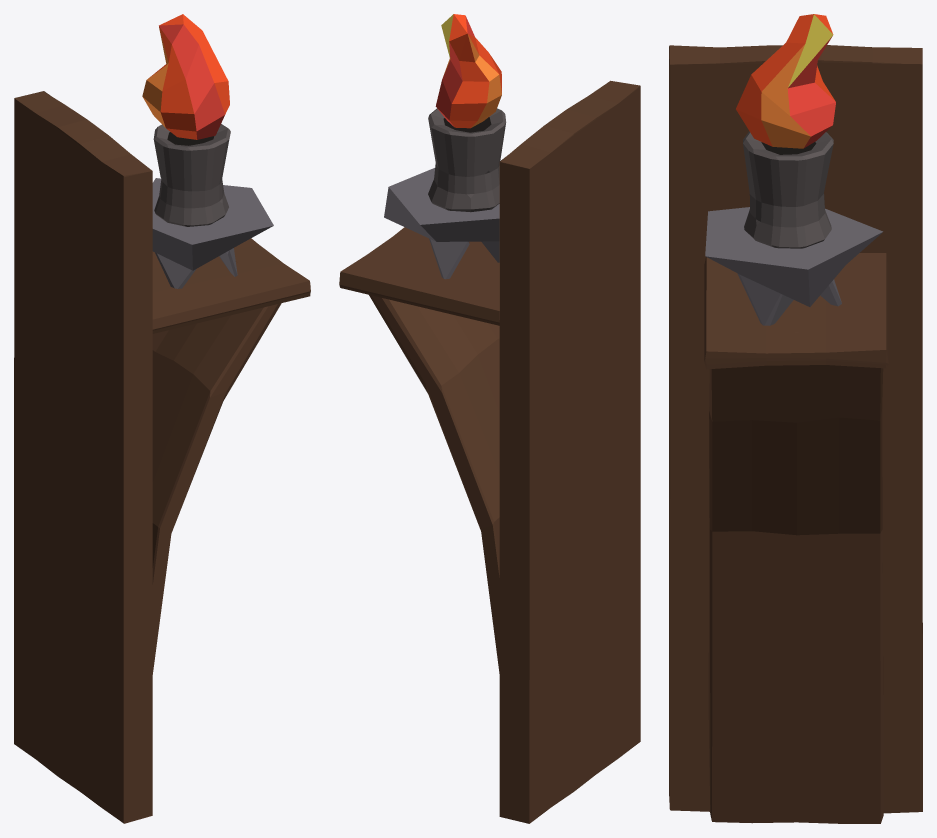
The model's file is Torch3.fbx.
3 views of the same model, side by side, from view 1: azimuth 30°, elevation 25°; view 2: azimuth 150°, elevation 25°; view 3: azimuth 270°, elevation 25° (orthographic). The views are drawn at different scales.
Visible parts, largest first — view 1: Torch3; view 2: Torch3; view 3: Torch3.
Part boxes in pixels (left/top/right/bottom): Torch3: left=14, top=14, right=310, bottom=823; Torch3: left=339, top=14, right=640, bottom=823; Torch3: left=669, top=14, right=922, bottom=823.
Size of the model in its own units: 13.89 by 48.75 by 13.02.
